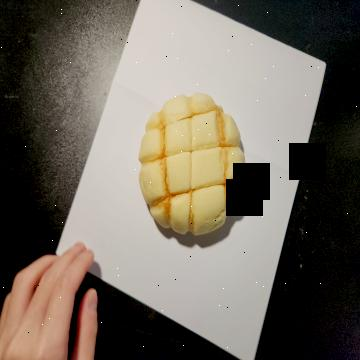melon_bread: (137, 92, 247, 238)
